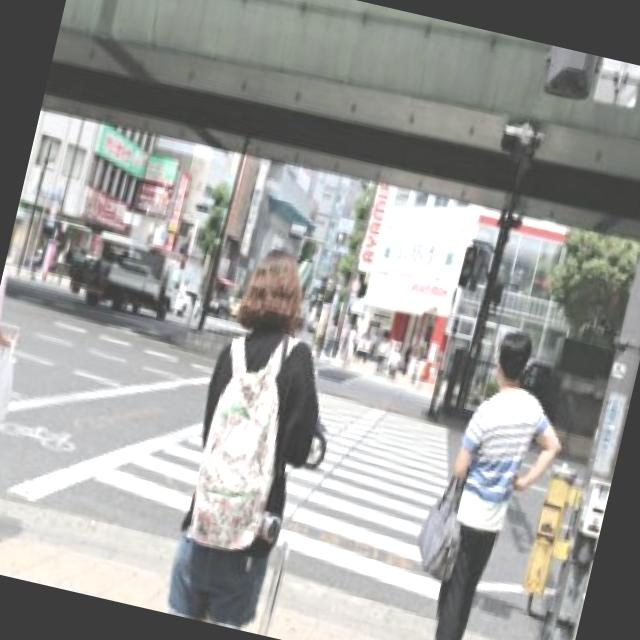Person: (158, 236, 352, 634), (409, 321, 588, 640)
